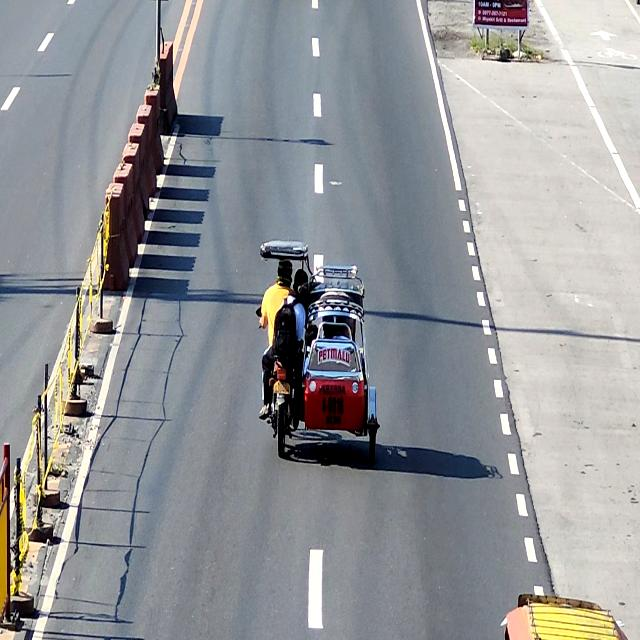License-Plate: (273, 380, 290, 394)
Tricycle: (255, 238, 381, 466)
